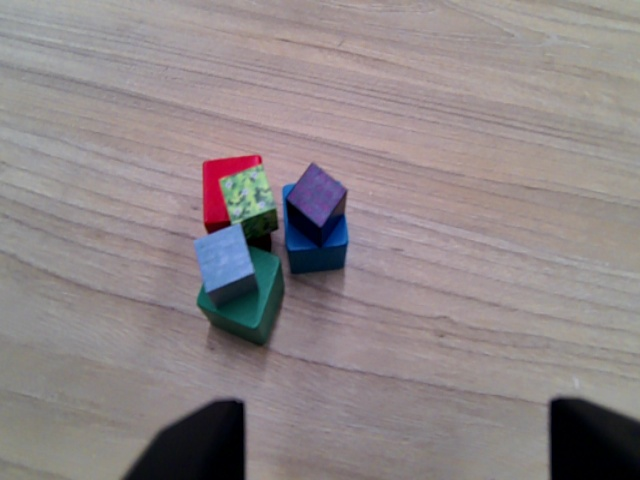brick: (287, 161, 351, 244)
grass: (215, 167, 282, 226)
stone: (192, 221, 258, 304)
